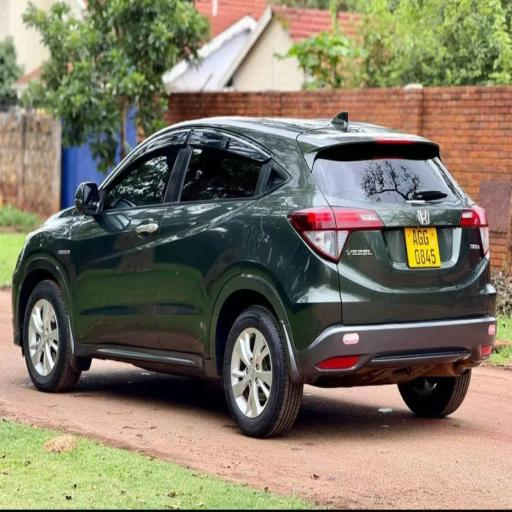number-plates: (404, 224, 444, 267)
